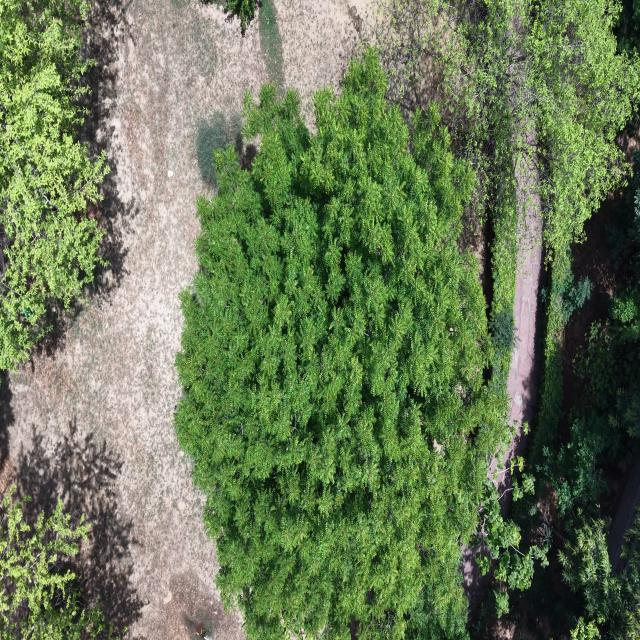DRY_AREA: (2, 0, 267, 639), (488, 126, 542, 514), (488, 132, 542, 514), (559, 189, 625, 441), (497, 132, 542, 493), (489, 208, 541, 512), (608, 459, 639, 573), (608, 461, 639, 573)
VEGETATION_TREE: (176, 0, 639, 639), (176, 51, 507, 639), (378, 0, 639, 539), (177, 239, 463, 637), (379, 0, 639, 421), (502, 2, 639, 549), (377, 0, 517, 387), (532, 176, 639, 638), (532, 0, 639, 458), (538, 177, 639, 638), (0, 0, 107, 369), (521, 0, 639, 253), (0, 491, 110, 639), (559, 512, 639, 639), (476, 480, 550, 617), (203, 0, 283, 90), (608, 153, 639, 345), (196, 111, 242, 187), (259, 0, 284, 92), (204, 0, 258, 34), (617, 0, 639, 53), (225, 0, 257, 33)
